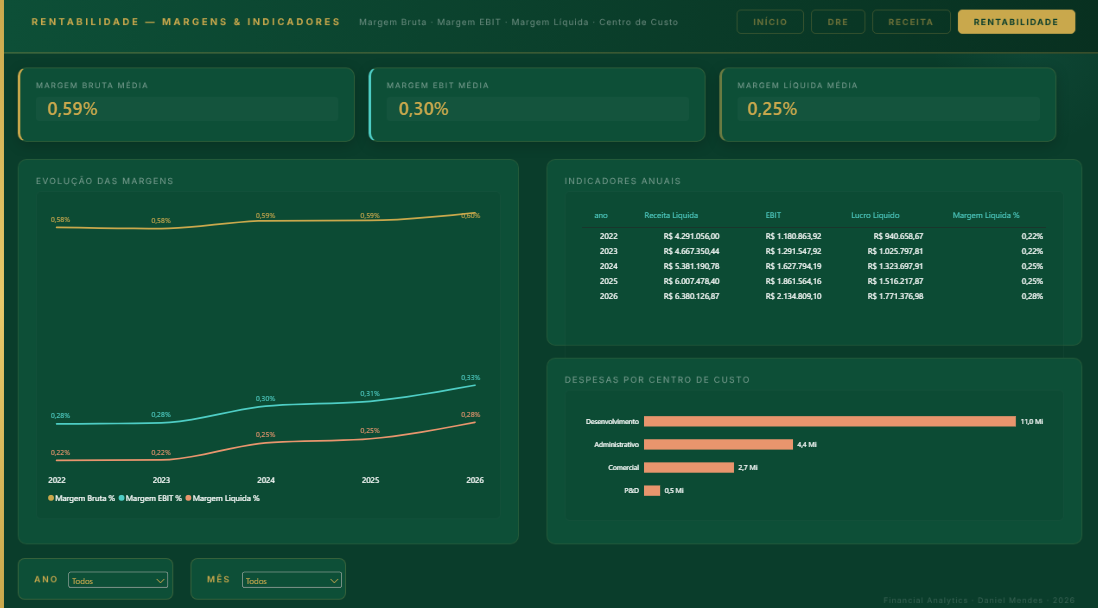

Layout of this report page (visuals, bound fields, positions):
{"tool":"powerbi","page":{"name":"Rentabilidade","canvas":[1920,1080],"ordinal":3},"visuals":[{"type":"actionButton","box":[1286.7,29,108.6,39.8],"z":0},{"type":"actionButton","box":[1416.1,28.8,88.5,39.1],"z":1},{"type":"actionButton","box":[1532.8,29,108.6,39.8],"z":2},{"type":"cardVisual","fields":{"Data":["_Medidas.Margem Bruta %"]},"box":[71.6,138.9,516.5,95.5],"z":3},{"type":"cardVisual","fields":{"Data":["_Medidas.Margem EBIT %"]},"box":[681.4,138.9,516.5,95.5],"z":4},{"type":"cardVisual","fields":{"Data":["_Medidas.Margem Liquida %"]},"box":[1286.8,138.9,523,95.5],"z":5},{"type":"lineChart","fields":{"Category":["vw_Indicadores_Rentabilidade.ano"],"Y":["_Medidas.Margem Bruta %","_Medidas.Margem EBIT %","_Medidas.Margem Liquida %"]},"box":[71.6,355.9,789.9,549],"z":6},{"type":"tableEx","fields":{"Values":["vw_Indicadores_Rentabilidade.ano","_Medidas.Receita Liquida","_Medidas.EBIT","_Medidas.Lucro Liquido","_Medidas.Margem Liquida %"]},"box":[998.2,355.9,842,245.2],"z":7},{"type":"clusteredBarChart","fields":{"Category":["vw_Despesas_Centro_Custo.Centro_Custo"],"Y":["Sum(vw_Despesas_Centro_Custo.Total_Despesas)"]},"box":[998.2,694.4,842,210.5],"z":8},{"type":"slicer","fields":{"Values":["vw_Despesas_Centro_Custo.ano"]},"box":[119.3,998.2,182.3,45.6],"z":9},{"type":"slicer","fields":{"Values":["vw_Despesas_Centro_Custo.mes"]},"box":[421,998.2,182.3,45.6],"z":10}]}

Visuals, with their boxes in screenshot pixels (x1, y1, x2, y2), scaled from the page's 1920x1080 canvas onto the 1098x608 screenshot:
actionButton: crop(736, 16, 798, 39)
actionButton: crop(810, 16, 860, 38)
actionButton: crop(877, 16, 939, 39)
cardVisual - _Medidas.Margem Bruta %: crop(41, 78, 336, 132)
cardVisual - _Medidas.Margem EBIT %: crop(390, 78, 685, 132)
cardVisual - _Medidas.Margem Liquida %: crop(736, 78, 1035, 132)
lineChart - vw_Indicadores_Rentabilidade.ano x _Medidas.Margem Bruta %: crop(41, 200, 493, 509)
tableEx - vw_Indicadores_Rentabilidade.ano x _Medidas.Receita Liquida: crop(571, 200, 1052, 338)
clusteredBarChart - vw_Despesas_Centro_Custo.Centro_Custo x Sum(vw_Despesas_Centro_Custo.Total_Despesas): crop(571, 391, 1052, 509)
slicer - vw_Despesas_Centro_Custo.ano: crop(68, 562, 172, 588)
slicer - vw_Despesas_Centro_Custo.mes: crop(241, 562, 345, 588)
